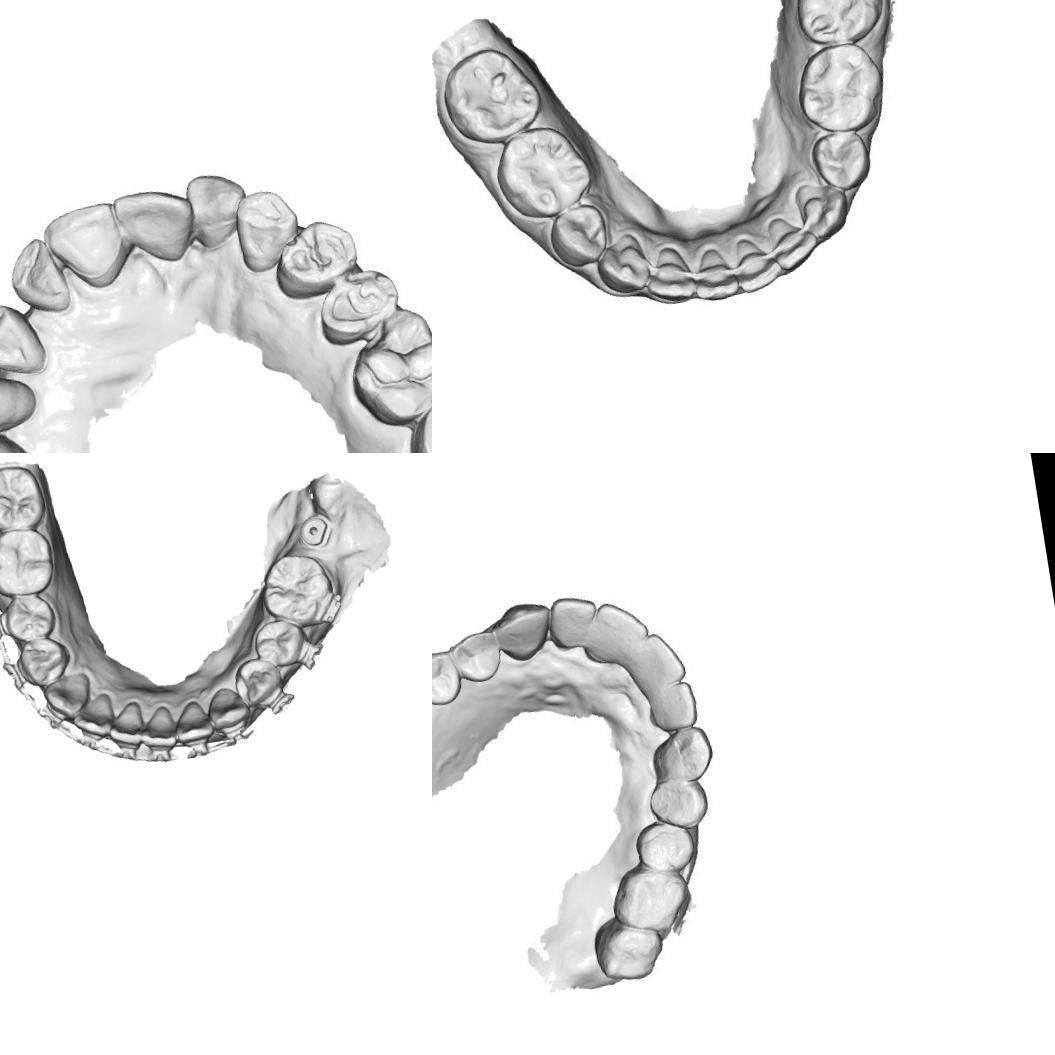canine: (232, 187, 305, 269), (489, 598, 557, 667), (645, 723, 718, 787), (797, 180, 854, 240), (594, 232, 649, 294), (0, 301, 45, 374), (38, 670, 96, 722), (202, 682, 254, 732)
implant: (295, 510, 335, 552)
incisor: (44, 198, 132, 289), (110, 184, 199, 268), (6, 233, 76, 319), (577, 596, 654, 666), (185, 169, 250, 250), (616, 628, 686, 691), (643, 677, 701, 734), (544, 592, 602, 648), (692, 248, 742, 307), (734, 234, 782, 294), (768, 212, 819, 268), (67, 690, 118, 742), (647, 247, 694, 303), (169, 696, 216, 746), (102, 698, 147, 750), (136, 702, 179, 753)
molar: (436, 42, 548, 152), (489, 122, 594, 223), (346, 307, 432, 424), (797, 38, 888, 134), (606, 855, 696, 940), (256, 547, 339, 632), (587, 910, 665, 988), (0, 523, 60, 602), (791, 0, 886, 42), (0, 459, 49, 537)
premolar: (304, 265, 404, 348), (268, 214, 363, 301), (541, 199, 615, 268), (808, 128, 875, 198), (630, 816, 701, 878), (643, 776, 714, 833), (0, 360, 45, 438), (446, 627, 505, 686), (249, 615, 310, 672), (15, 634, 75, 689), (1, 590, 60, 644), (230, 653, 286, 709), (432, 647, 463, 710)
